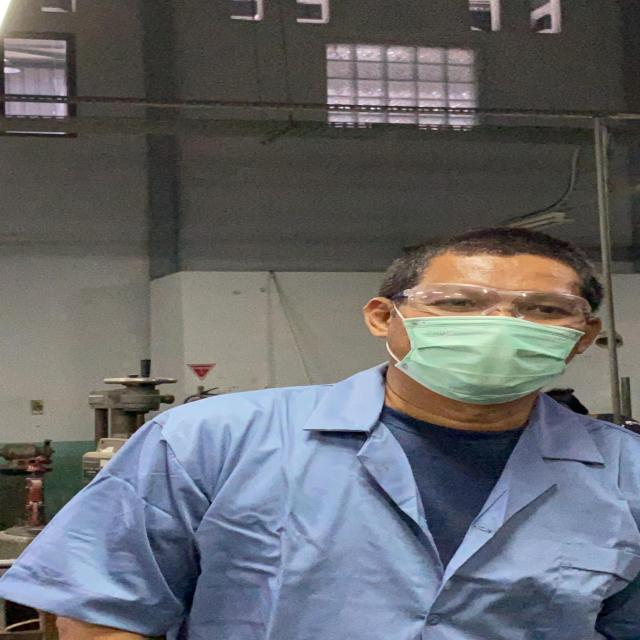face_mask: (392, 280, 594, 399)
glasses: (383, 279, 601, 326)
head_nohelmet: (394, 222, 592, 279)
